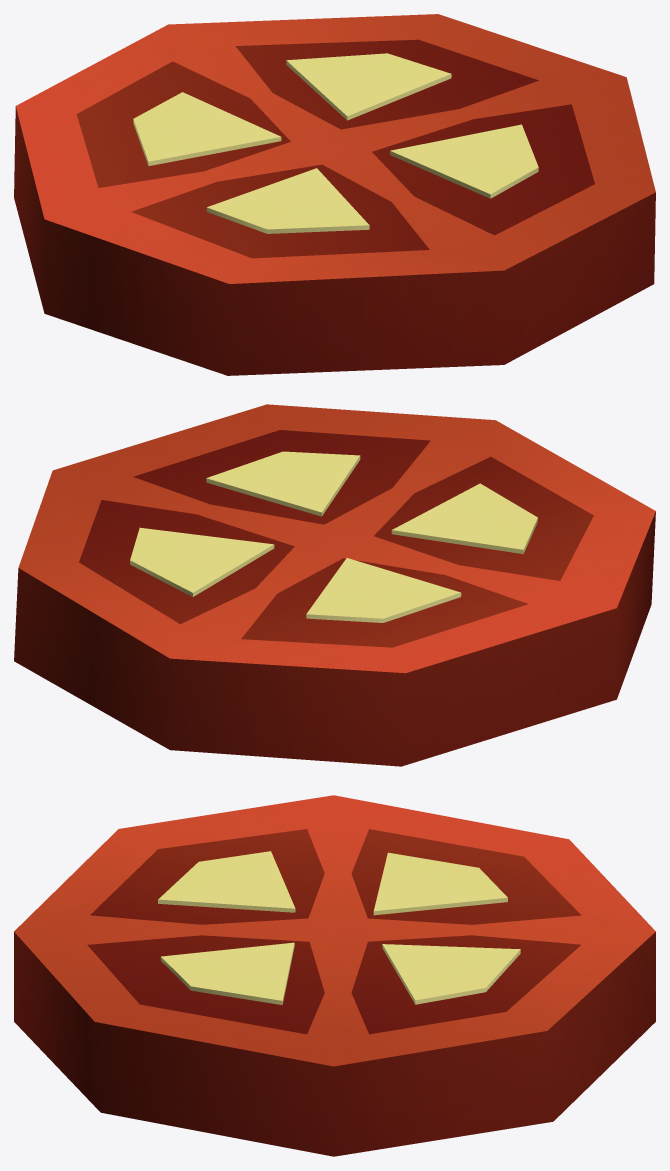
Rendered from tomato_slice.fbx.
3 renders of one model, top to bottom at view 1: azimuth 30°, elevation 25°; view 2: azimuth 150°, elevation 25°; view 3: azimuth 270°, elevation 25°, orthographic. The views are drawn at different scales.
Visible parts, largest first — view 1: tomato_slice; view 2: tomato_slice; view 3: tomato_slice.
Boxes of the visible parts, bbox=[...] form: tomato_slice: bbox=[14, 14, 655, 375]; tomato_slice: bbox=[14, 404, 655, 766]; tomato_slice: bbox=[14, 795, 655, 1156].
Size of the model in its own units: 21.85 by 3.71 by 21.85.
